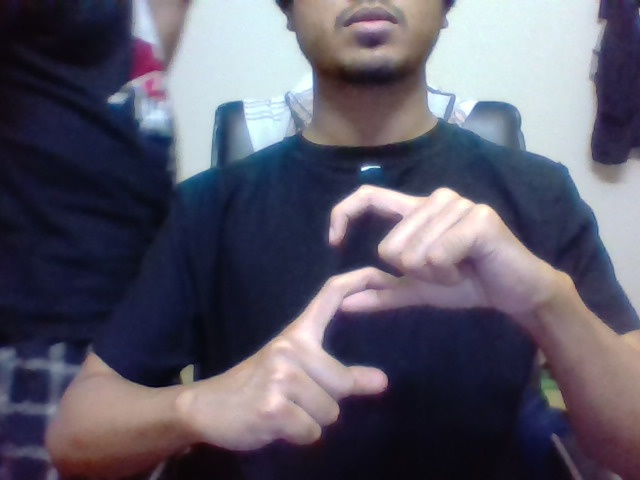S: (300, 180, 403, 397)
